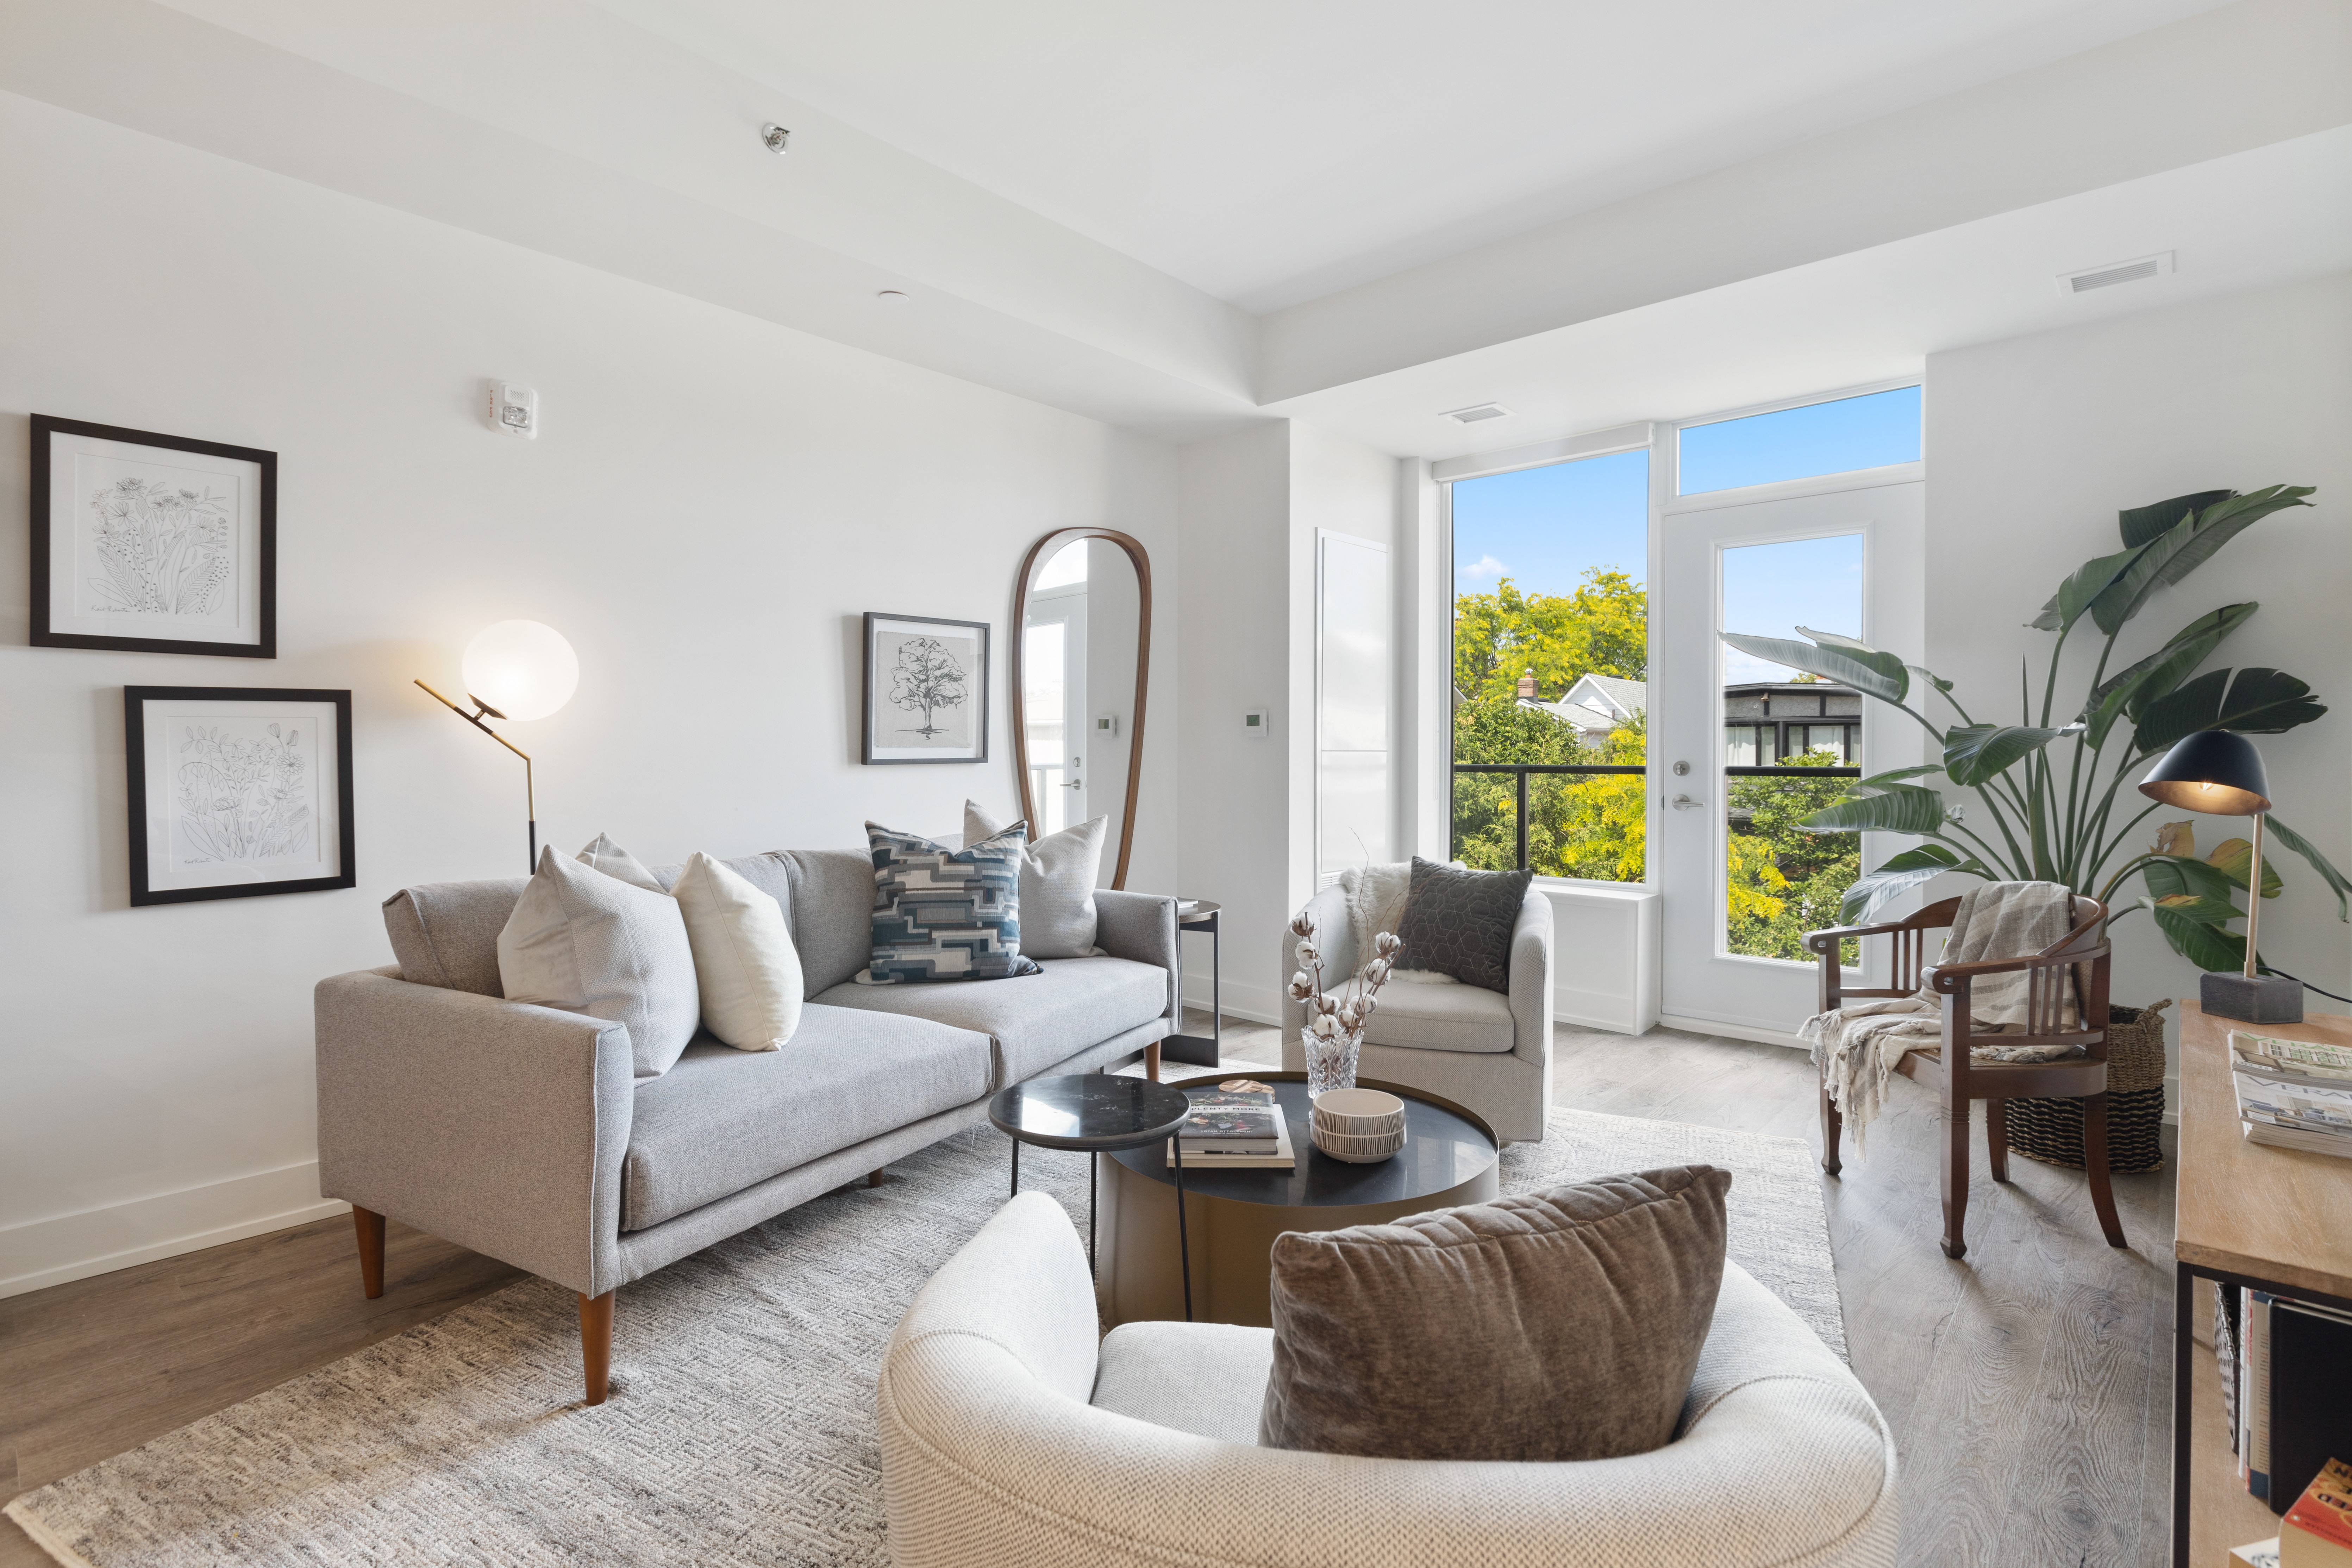Chair: (1788, 843, 2133, 1279)
Painting: (21, 402, 290, 667), (112, 677, 364, 915), (854, 602, 999, 779)
Plant: (1689, 476, 2336, 1158)
Sofa: (310, 801, 1199, 1410)
